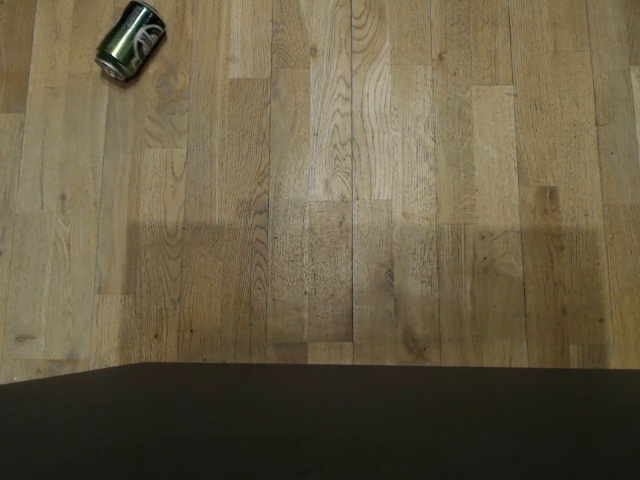beer: (88, 0, 169, 84)
